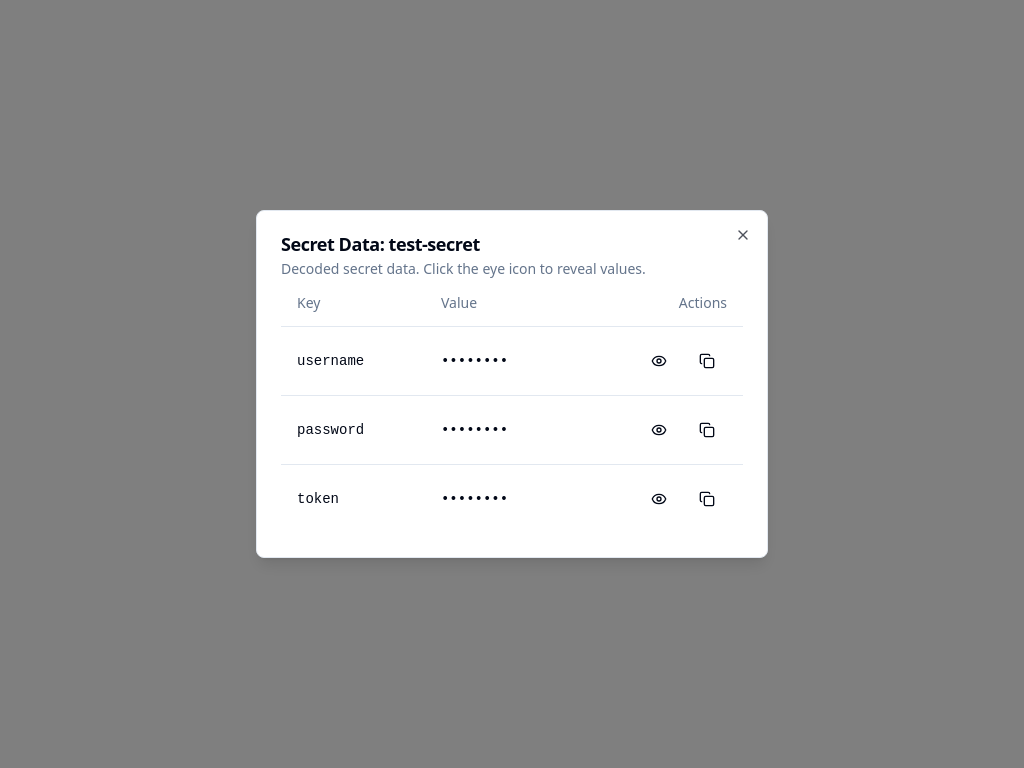
SecretDataModal › reveals secret value when eye icon is clicked
This screenshot has width=1024, height=768.
Note: Find all reveal buttons and click the first one
Click the button named "Reveal value" in the row of "username" at [659, 361], box x1=639 y1=343 x2=679 y2=379
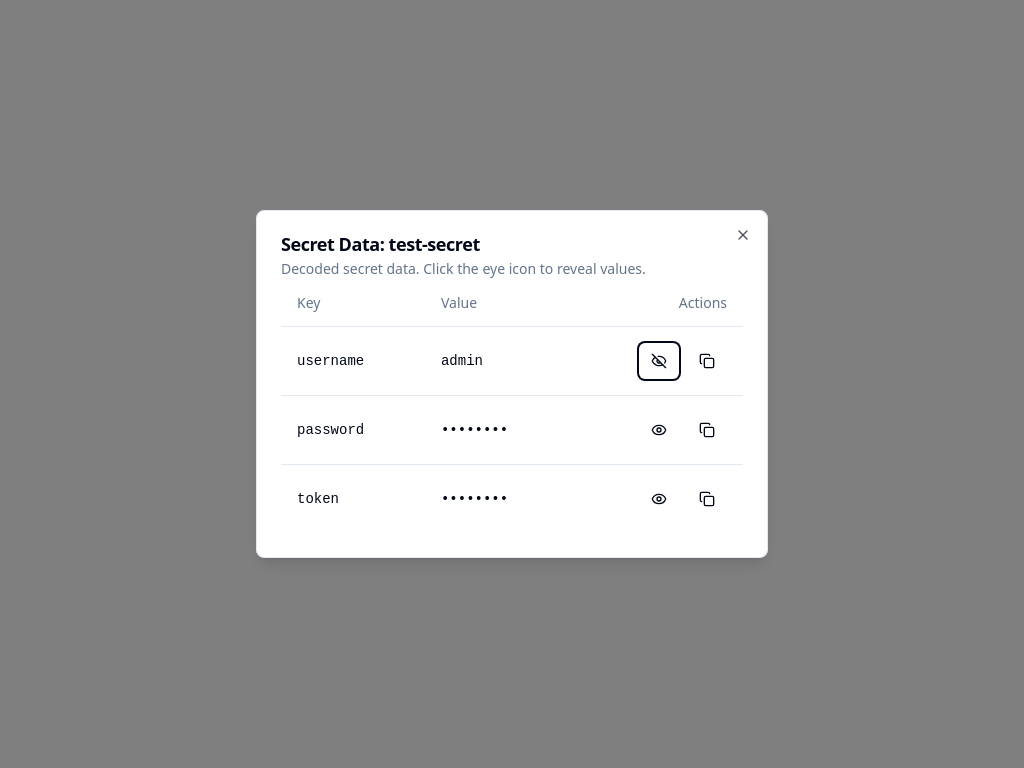
Result: the text "admin" is shown at x1=425 y1=327 x2=569 y2=396
